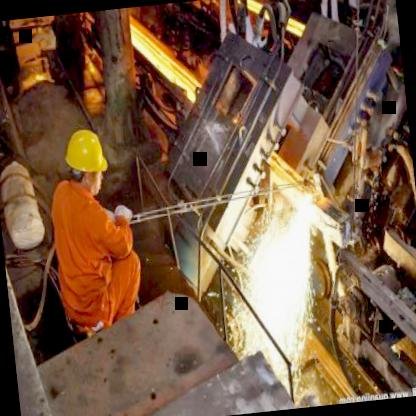helmet: (58, 119, 113, 202)
